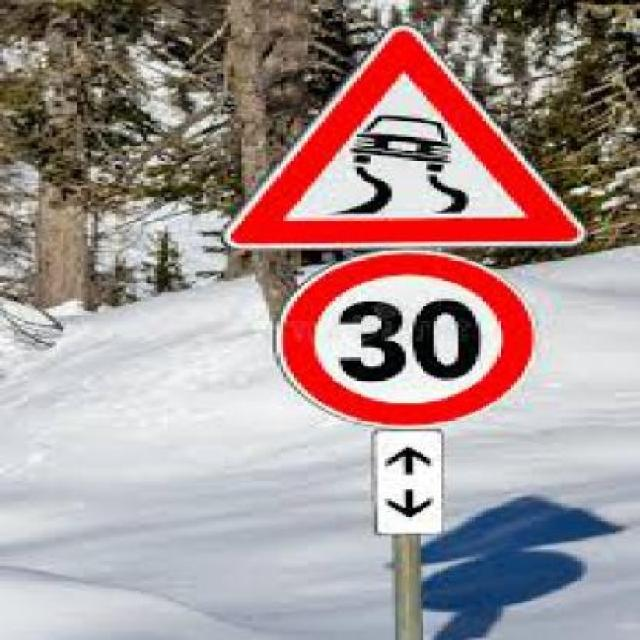forb_speed_over_30: (279, 253, 532, 422)
